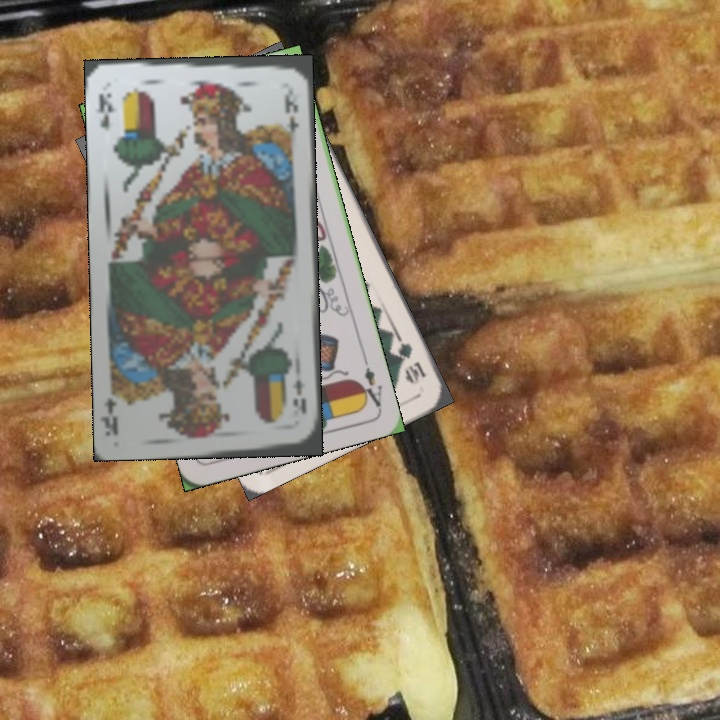EA: (355, 353, 385, 411)
EK: (92, 89, 116, 133), (287, 376, 310, 416)
G10: (393, 333, 429, 387)
